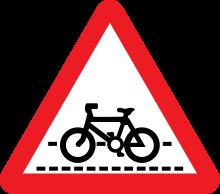Cycle Crossing: (9, 16, 211, 184)
